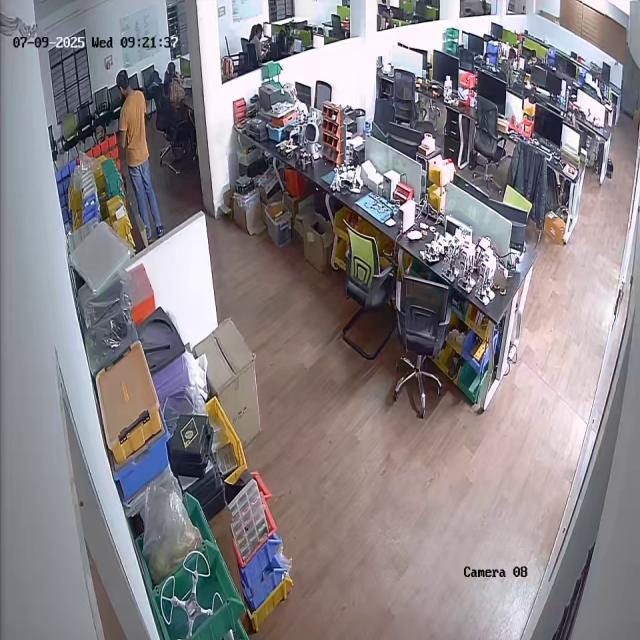person: (110, 69, 168, 241)
